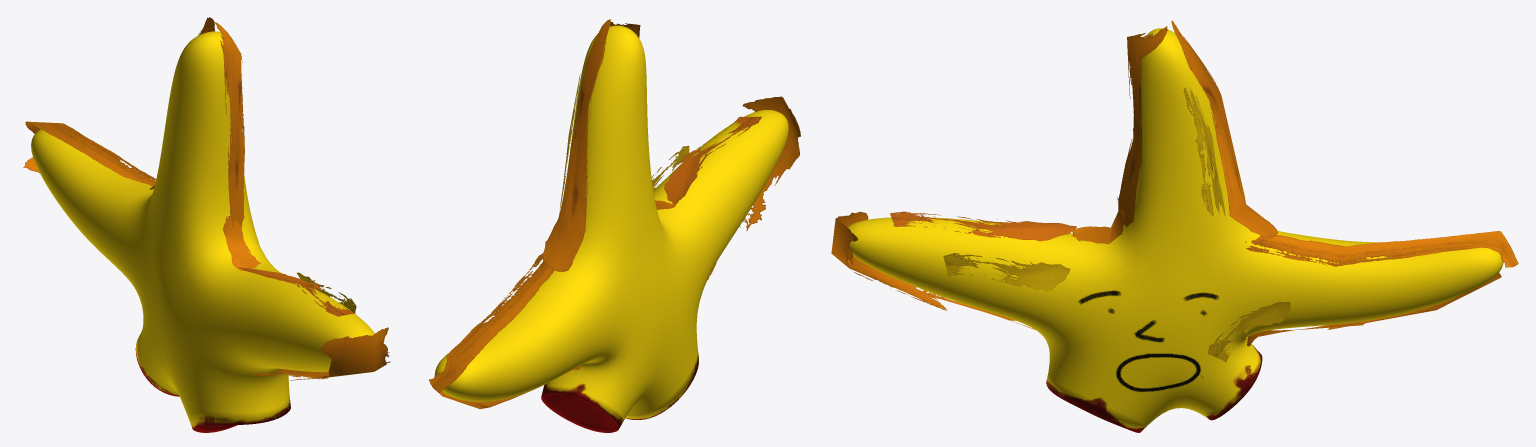
File: Starfish Broken Body.fbx
The picture shows the model from 3 angles, left to right: view 1: azimuth 30°, elevation 25°; view 2: azimuth 150°, elevation 25°; view 3: azimuth 270°, elevation 25°; orthographic projection.
Parts seen in each view (by area): view 1: Starfish_Brushstrokes; view 2: Starfish_Brushstrokes; view 3: Starfish_Brushstrokes.
Part boxes in pixels (x1,y1,x2,y2): Starfish_Brushstrokes: (23,17,390,432); Starfish_Brushstrokes: (429,19,800,432); Starfish_Brushstrokes: (831,20,1518,432).
Bounding box in the file's own units: 92.32 × 376 × 570.
Materials: 2 (2 with a texture image).
